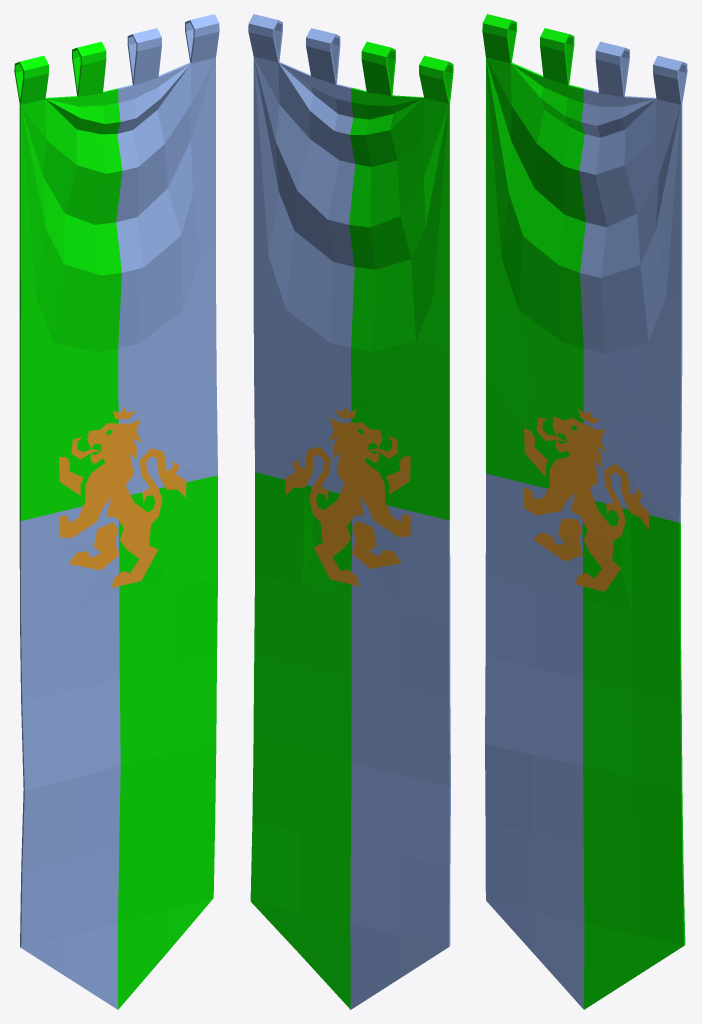
File: SM_Flag_Banner_Big_A_Fantasy.fbx
The picture shows the model from 3 angles, left to right: view 1: azimuth 30°, elevation 25°; view 2: azimuth 150°, elevation 25°; view 3: azimuth 330°, elevation 25°; orthographic projection.
Visible parts, largest first — view 1: flag-banner-big-a-fantasy; view 2: flag-banner-big-a-fantasy; view 3: flag-banner-big-a-fantasy.
Part boxes in pixels (x1=…): flag-banner-big-a-fantasy: x1=14, y1=14, x2=219, y2=1009; flag-banner-big-a-fantasy: x1=248, y1=14, x2=453, y2=1009; flag-banner-big-a-fantasy: x1=482, y1=14, x2=687, y2=1009.
Size of the model in its own units: 0.9582 by 4.55 by 0.0886.
